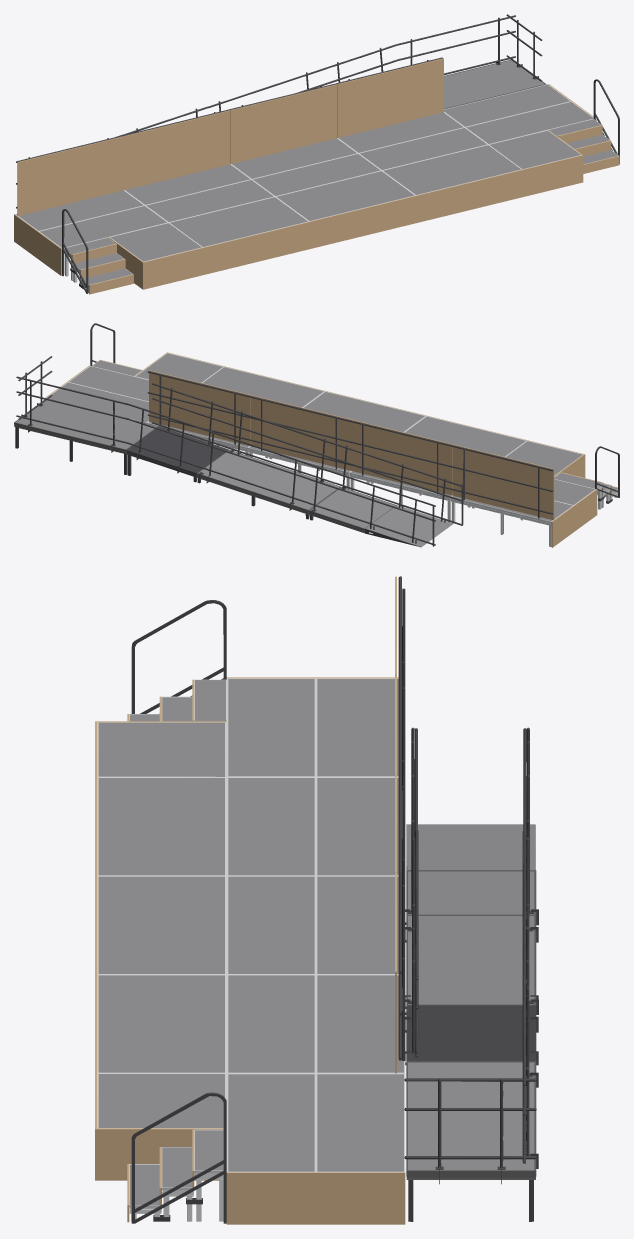
3 views of the same model, one above another, from view 1: azimuth 30°, elevation 25°; view 2: azimuth 150°, elevation 25°; view 3: azimuth 270°, elevation 25° (orthographic). The views are drawn at different scales.
Visible parts, largest first — view 1: deck_top, veneer, hardware, deck_edge; view 2: deck_top, veneer, hardware, deck_edge, ramp_deck; view 3: deck_top, hardware, veneer, deck_edge, ramp_deck.
Part boxes in pixels (x1,y1,x2,y2): deck_top: (16,60,618,284); veneer: (14,58,619,294); hardware: (16,14,619,293); deck_edge: (15,84,618,292); deck_top: (15,353,617,547); veneer: (45,352,617,547); hardware: (15,323,619,547); deck_edge: (46,353,617,546); ramp_deck: (14,419,396,533); deck_top: (98,679,535,1204); hardware: (131,576,538,1223); veneer: (95,576,405,1224); deck_edge: (97,678,405,1221); ramp_deck: (406,870,536,1179).
Bounding box in the file's own units: 11.01 × 1.59 × 4.17.
